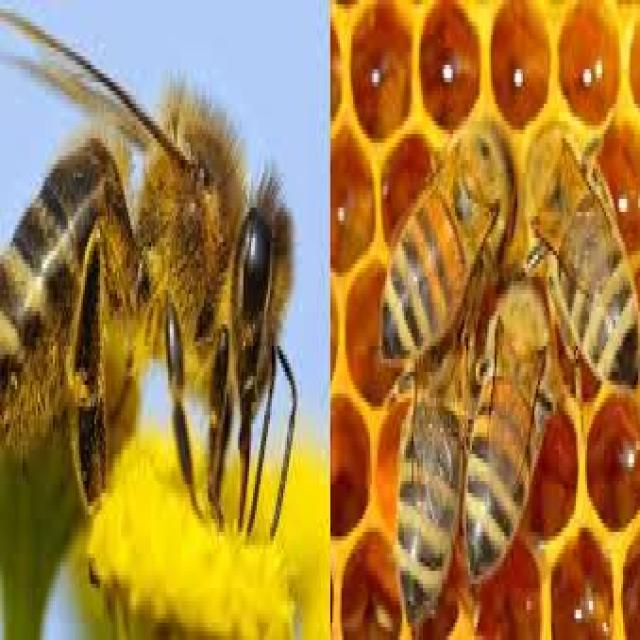Bees: (0, 6, 302, 552), (524, 122, 638, 390), (382, 140, 505, 365), (468, 283, 559, 576), (399, 354, 466, 633)
